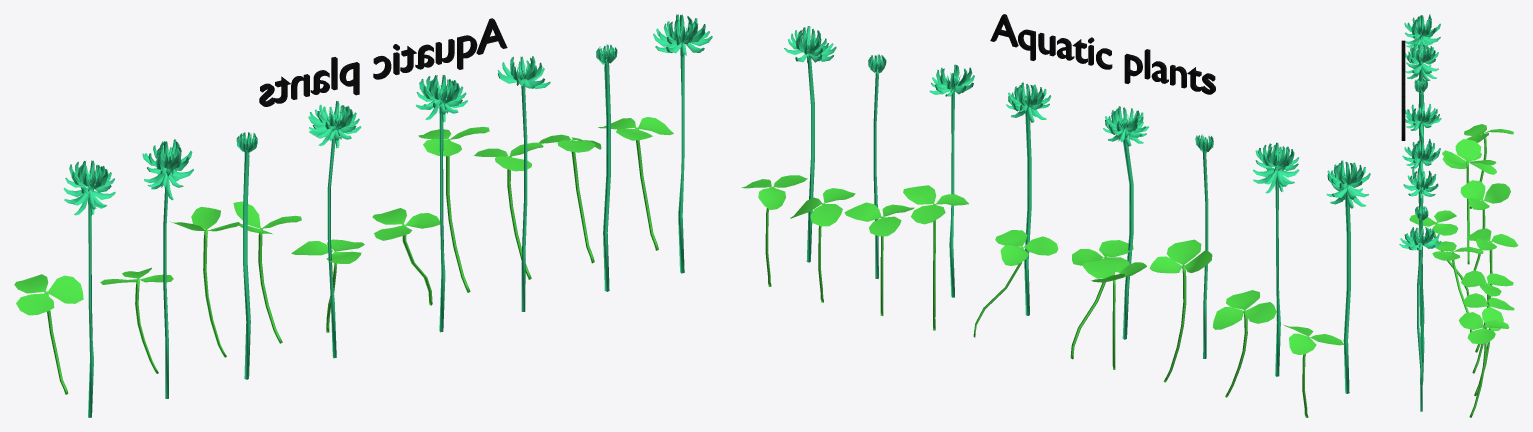
Rendered from Aquatic plants.gltf.
The picture shows the model from 3 angles, left to right: view 1: azimuth 30°, elevation 25°; view 2: azimuth 150°, elevation 25°; view 3: azimuth 270°, elevation 25°; orthographic projection. The views are drawn at different scales.
Visible parts, largest first — view 1: flower_A, clover_9, Text; view 2: clover_9, flower_A, Text; view 3: clover_9, flower_A, Text.
Part boxes in pixels (<box>): flower_A: <box>63,14,712,417</box>; clover_9: <box>14,117,673,394</box>; Text: <box>259,18,507,106</box>; clover_9: <box>741,175,1344,417</box>; flower_A: <box>784,26,1370,393</box>; Text: <box>990,14,1215,94</box>; clover_9: <box>1409,124,1518,417</box>; flower_A: <box>1399,14,1441,411</box>; Text: <box>1401,40,1405,140</box>.
Bounding box in the file's own units: 2.9 × 1.34 × 0.6317.
